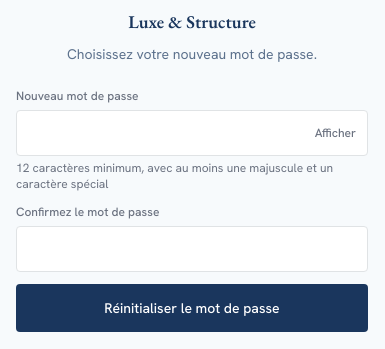
it: ResetPassword › soumet le token et le nouveau mot de passe, puis affiche la confirmation
Type "P@ssword123!" into the password field labelled "Nouveau mot de passe". click: point(192, 133)
box: x1=16 y1=110 x2=368 y2=156
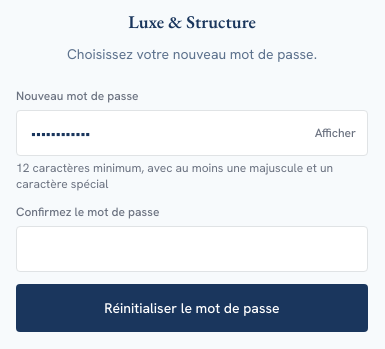
Type "P@ssword123!" into the password field labelled "Confirmez le mot de passe". click: point(192, 249)
box: x1=16 y1=226 x2=368 y2=272
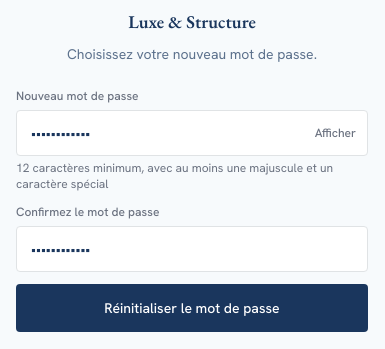
Click the button "Réinitialiser le mot de passe". click: point(192, 308)
box: x1=16 y1=284 x2=368 y2=332
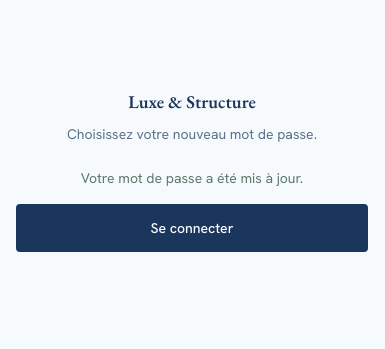
Now the text "Votre mot de passe a été mis à jour." is shown, box x1=81 y1=169 x2=303 y2=187
